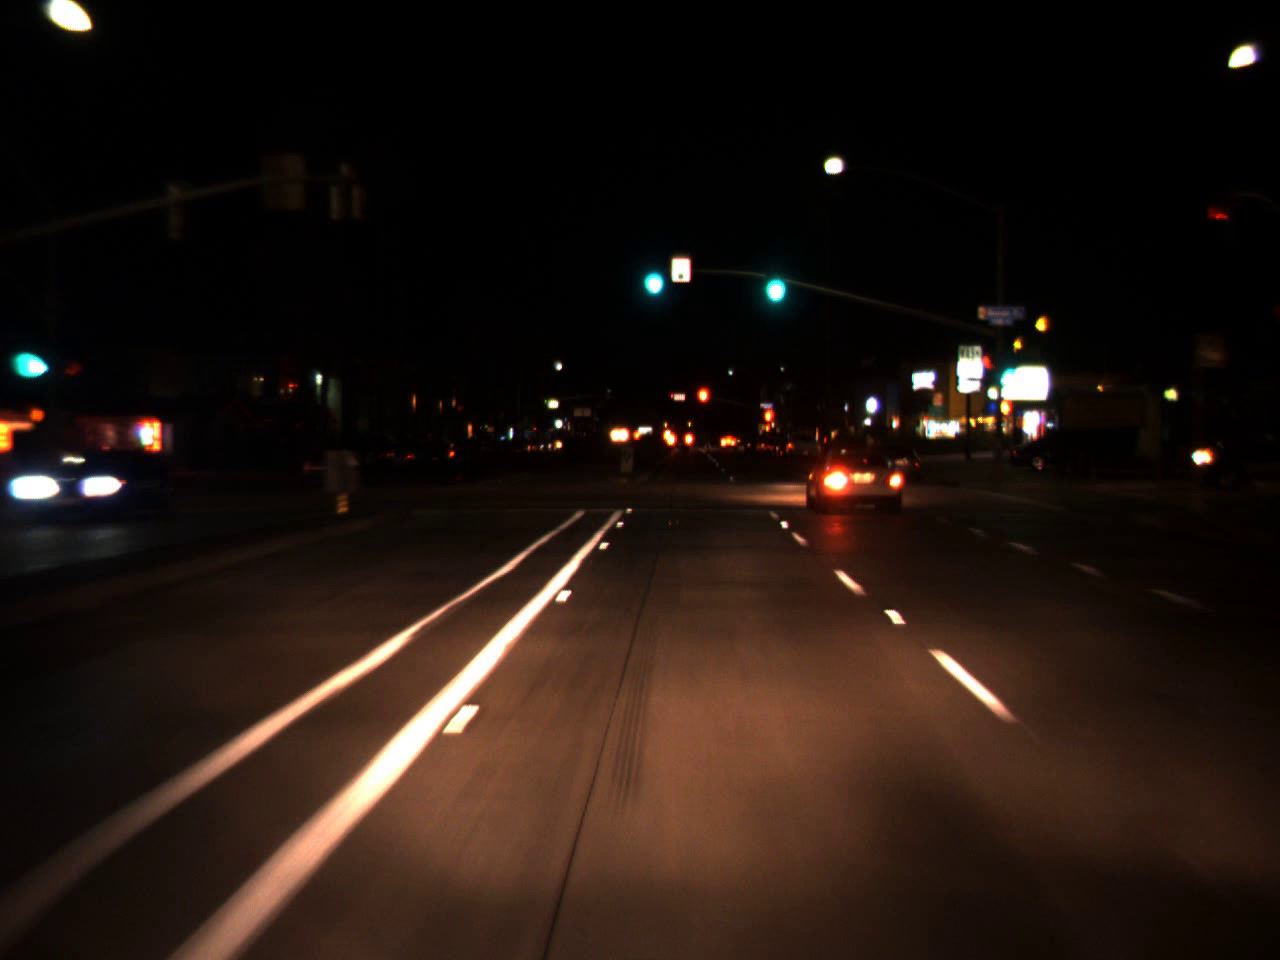go: (3, 321, 53, 387), (636, 245, 668, 302), (758, 260, 790, 299), (998, 352, 1025, 391)
stop: (695, 385, 710, 419), (762, 407, 775, 439)
